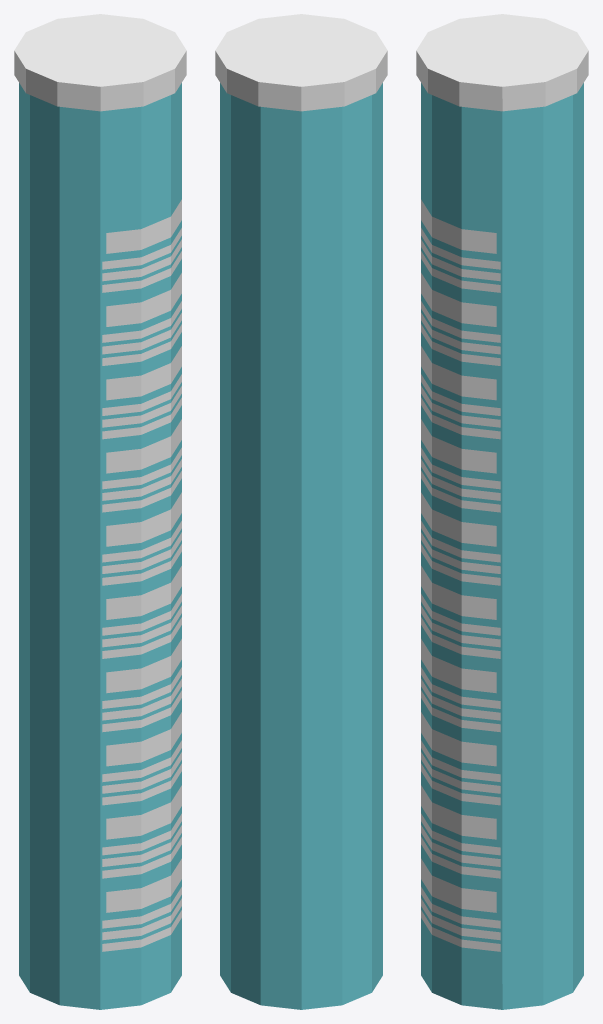
Rendered from SM_Medicine_Glass_01.glb.
3 renders of one model, left to right at view 1: azimuth 30°, elevation 25°; view 2: azimuth 150°, elevation 25°; view 3: azimuth 270°, elevation 25°, orthographic.
Visible parts, largest first — view 1: SM_Medicine_Glass_01, SM_Medicine_Glass_Lid_01; view 2: SM_Medicine_Glass_01, SM_Medicine_Glass_Lid_01; view 3: SM_Medicine_Glass_01, SM_Medicine_Glass_Lid_01.
Part boxes in pixels (<box>): SM_Medicine_Glass_01: <box>19,83,181,1009</box>; SM_Medicine_Glass_Lid_01: <box>14,14,186,111</box>; SM_Medicine_Glass_01: <box>220,83,382,1009</box>; SM_Medicine_Glass_Lid_01: <box>215,14,387,111</box>; SM_Medicine_Glass_01: <box>421,83,583,1009</box>; SM_Medicine_Glass_Lid_01: <box>416,14,588,111</box>.
Size of the model in its own units: 0.0387 by 0.229 by 0.0387.
